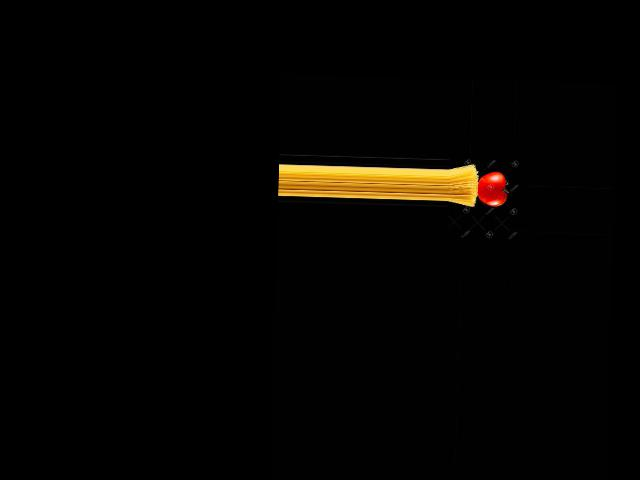tomato: (476, 171, 507, 206)
